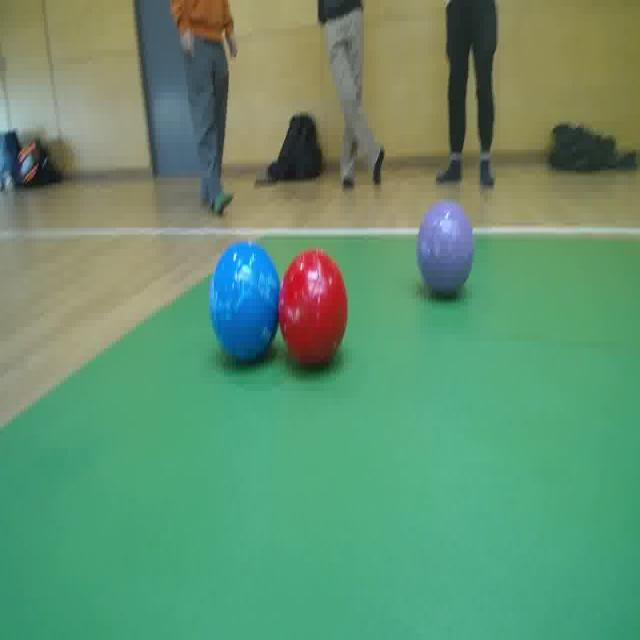blue_ball: (208, 238, 274, 366)
purple_ball: (416, 199, 474, 301)
red_ball: (279, 251, 349, 363)
